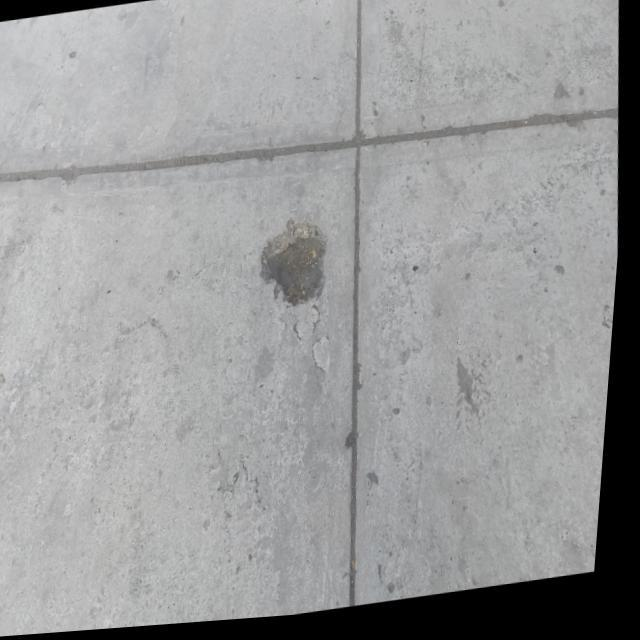hole: (256, 218, 338, 322)
